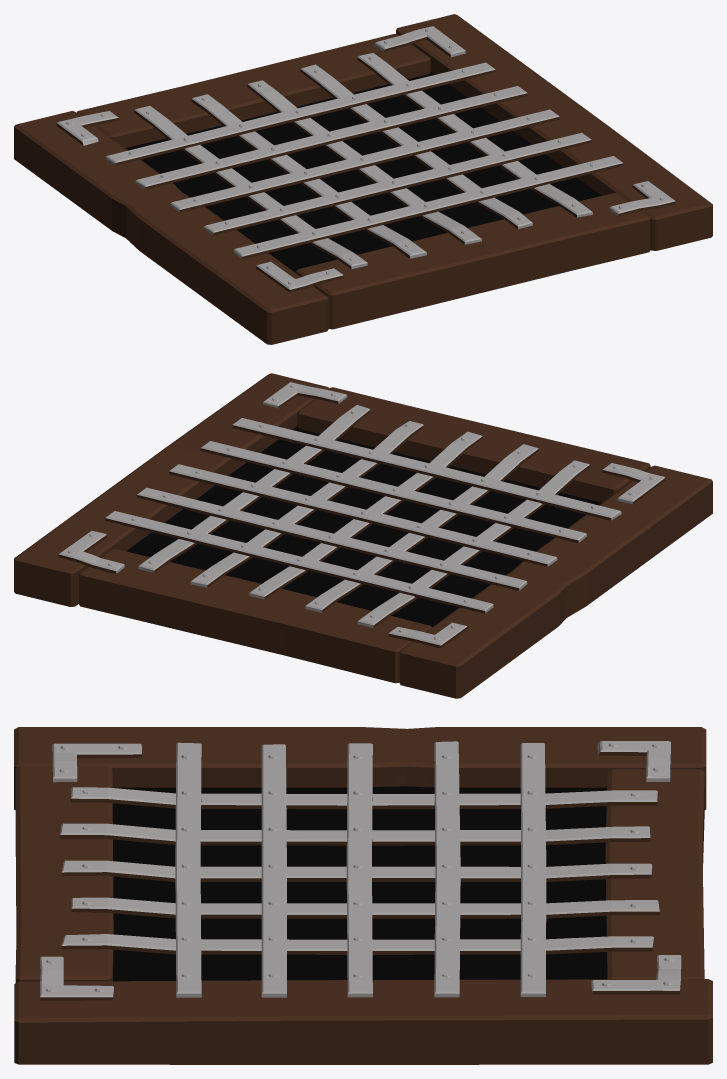
Rendered from SMLSpikeWoodenGrate.fbx.
3 views of the same model, one above another, from view 1: azimuth 30°, elevation 25°; view 2: azimuth 150°, elevation 25°; view 3: azimuth 270°, elevation 25° (orthographic). The views are drawn at different scales.
Parts seen in each view (by area): view 1: SMLSpikeWoodenGrate; view 2: SMLSpikeWoodenGrate; view 3: SMLSpikeWoodenGrate.
Part boxes in pixels (box(x1,y1,x2,y2)): SMLSpikeWoodenGrate: box(14, 14, 712, 344); SMLSpikeWoodenGrate: box(14, 373, 712, 698); SMLSpikeWoodenGrate: box(14, 727, 712, 1064).
Bounding box in the file's own units: 119 × 10.36 × 120.
